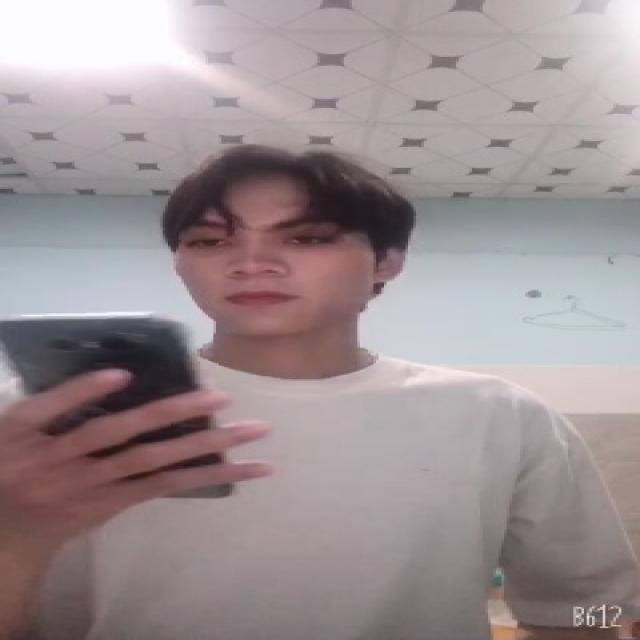Phone: (0, 310, 238, 504)
